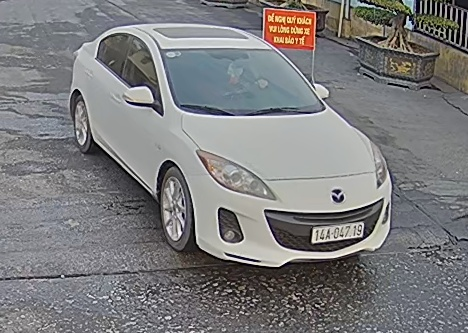vehicle plate: (309, 221, 366, 240)
